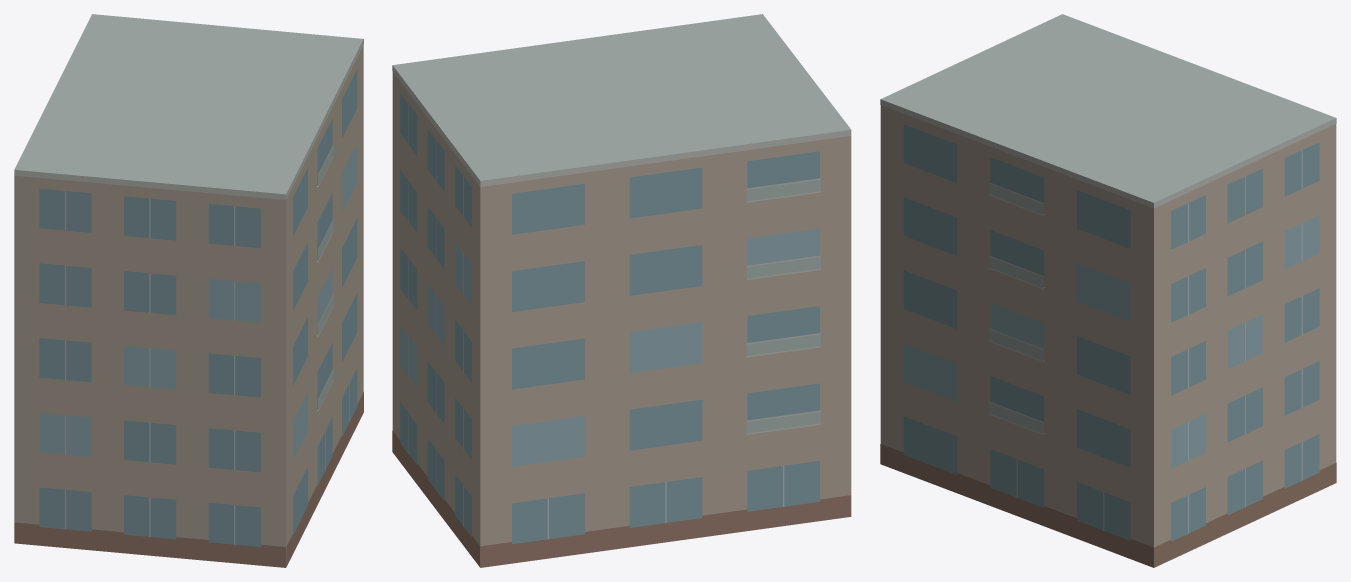
Rendered from survey-upis-32883685.glb.
3 views of the same model, side by side, from view 1: azimuth 30°, elevation 25°; view 2: azimuth 150°, elevation 25°; view 3: azimuth 270°, elevation 25° (orthographic). The views are drawn at different scales.
Parts seen in each view (by area): view 1: survey-upis-32883685.tmp; view 2: survey-upis-32883685.tmp; view 3: survey-upis-32883685.tmp.
Part boxes in pixels (bbox=[...]): survey-upis-32883685.tmp: bbox=[14, 14, 363, 567]; survey-upis-32883685.tmp: bbox=[392, 14, 851, 567]; survey-upis-32883685.tmp: bbox=[880, 14, 1336, 567].
Bounding box in the file's own units: 17.44 × 15.7 × 17.78.
